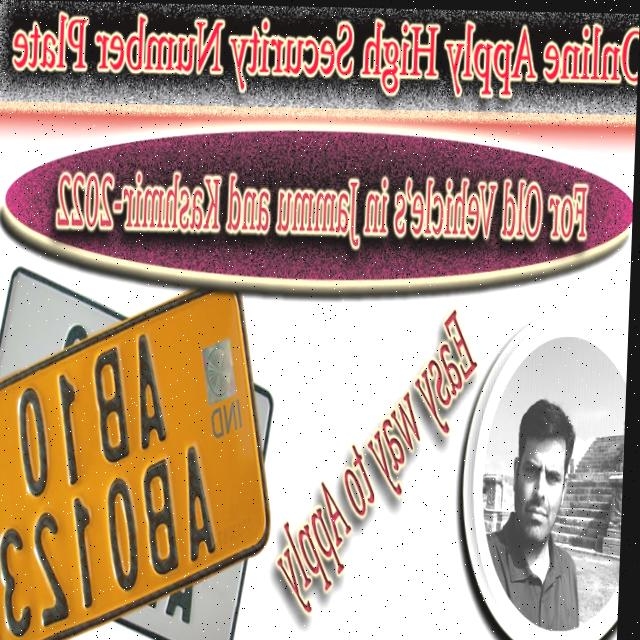plate: (0, 260, 288, 640)
